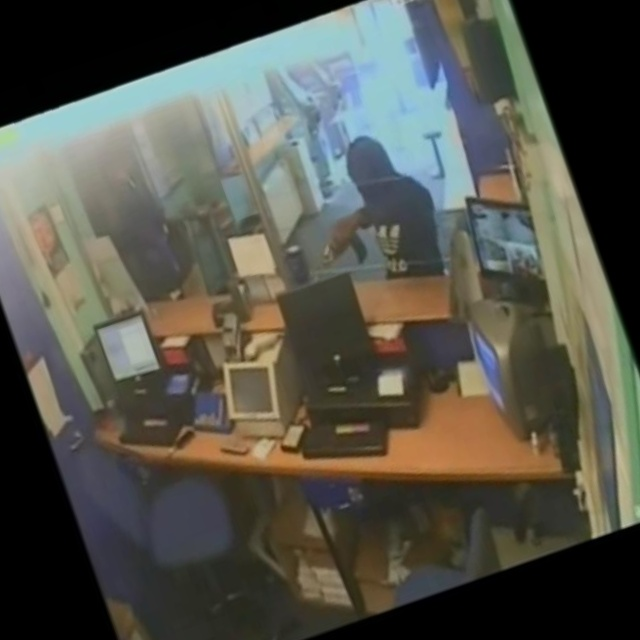gun: (308, 224, 361, 276)
